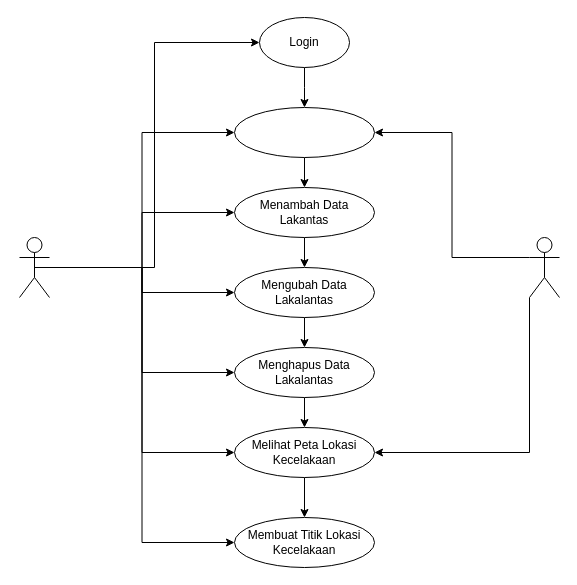
This 577x585 diagram has some shape labels left out. The box of each missing label's shape, as (x1, y1, x2, y2) in pixels:
Admin: (18, 236, 50, 298)
Melihat Data Lakalantas: (234, 106, 374, 158)
User: (528, 236, 560, 298)
